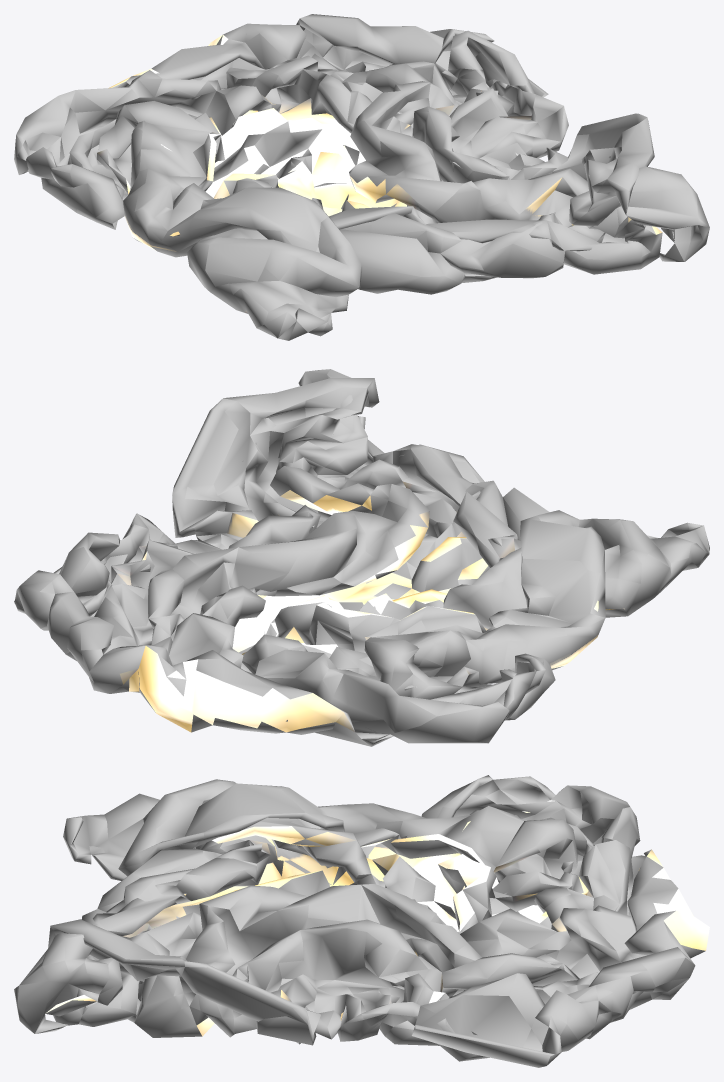
File: SM_Rag_01a.fbx
The picture shows the model from 3 angles, top to bottom: view 1: azimuth 30°, elevation 25°; view 2: azimuth 150°, elevation 25°; view 3: azimuth 270°, elevation 25°; orthographic projection. The views are drawn at different scales.
Visible parts, largest first — view 1: SM_Rag_01a_LOD0; view 2: SM_Rag_01a_LOD0; view 3: SM_Rag_01a_LOD0.
Part boxes in pixels (left/top/right/bottom): SM_Rag_01a_LOD0: left=14, top=14, right=709, bottom=340; SM_Rag_01a_LOD0: left=14, top=369, right=709, bottom=746; SM_Rag_01a_LOD0: left=14, top=775, right=709, bottom=1067.
Bounding box in the file's own units: 32.73 × 38.59 × 6.33.
